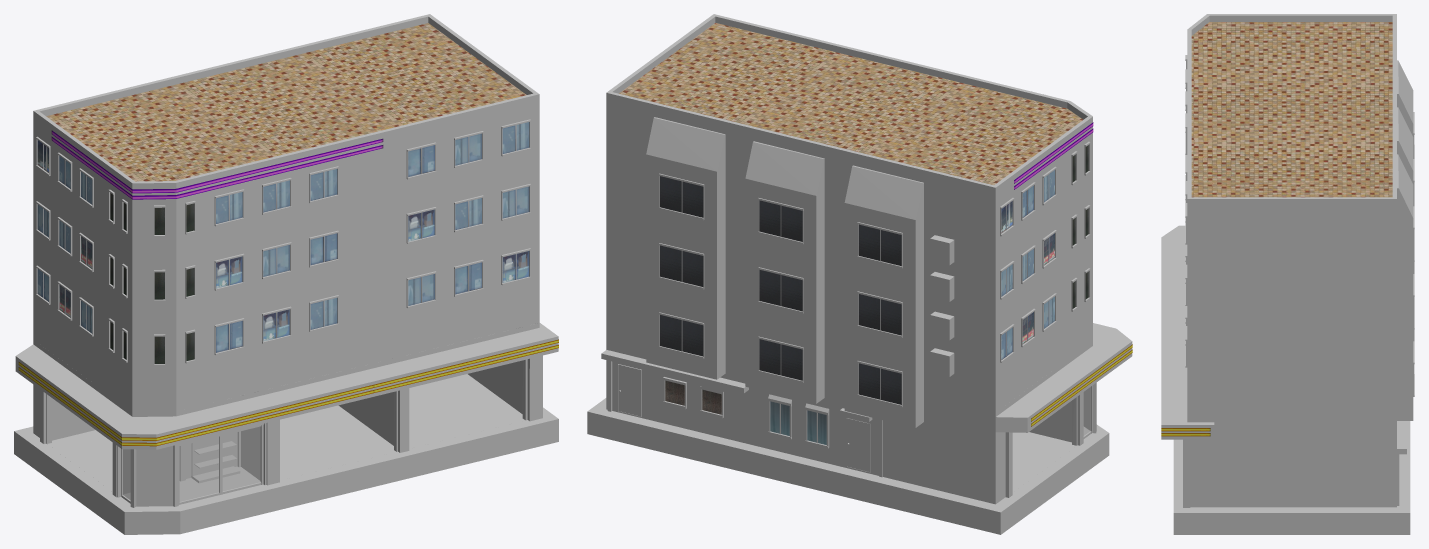
The model's file is bldg_mall_07a.fbx.
The picture shows the model from 3 angles, left to right: view 1: azimuth 30°, elevation 25°; view 2: azimuth 150°, elevation 25°; view 3: azimuth 270°, elevation 25°; orthographic projection. The views are drawn at different scales.
Visible parts, largest first — view 1: bldg_mall_07a; view 2: bldg_mall_07a; view 3: bldg_mall_07a.
Part boxes in pixels (x1,y1,x2,y2): bldg_mall_07a: [14, 14, 558, 534]; bldg_mall_07a: [587, 14, 1132, 534]; bldg_mall_07a: [1161, 14, 1414, 534].
Size of the model in its own units: 19.15 by 14.55 by 10.12.
